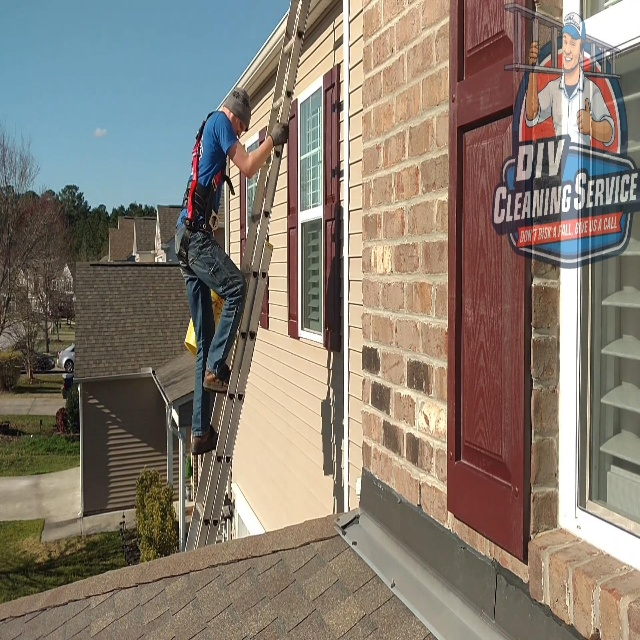Arnes_seguridad: (174, 109, 231, 267)
